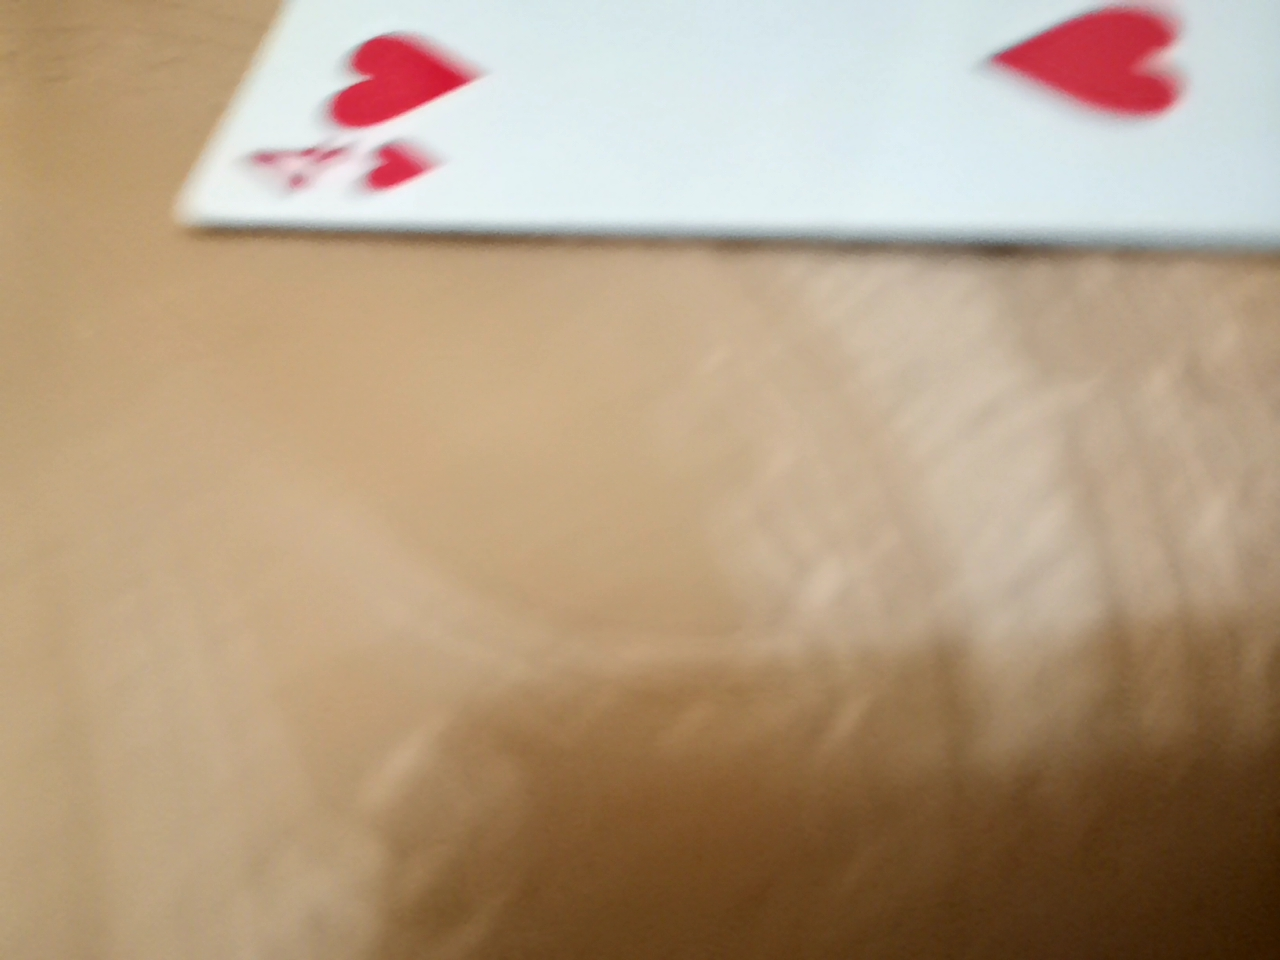hx 4: (253, 3, 1280, 328)
